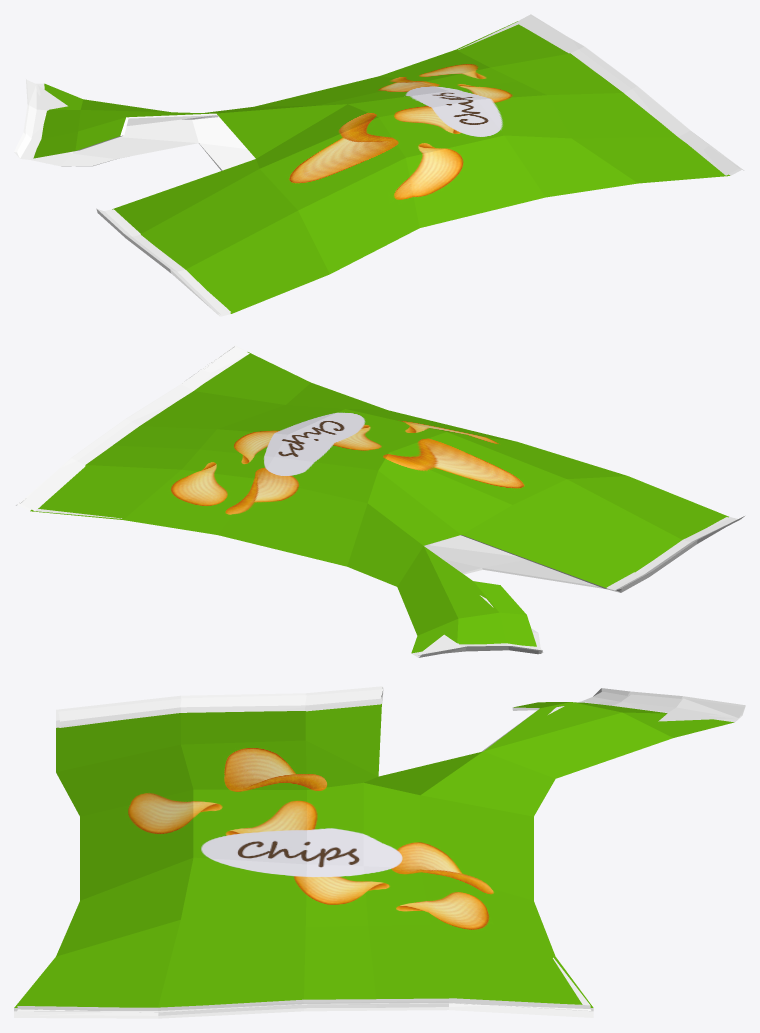
File: chips04.gltf
3 views of the same model, one above another, from view 1: azimuth 30°, elevation 25°; view 2: azimuth 150°, elevation 25°; view 3: azimuth 270°, elevation 25° (orthographic). The views are drawn at different scales.
Visible parts, largest first — view 1: Cube; view 2: Cube; view 3: Cube.
Part boxes in pixels (bbox=[...]): Cube: bbox=[14, 14, 744, 316]; Cube: bbox=[16, 345, 744, 657]; Cube: bbox=[14, 686, 745, 1018].
Size of the model in its own units: 3.27 by 0.5117 by 2.93.
2 materials, 1 textured.
